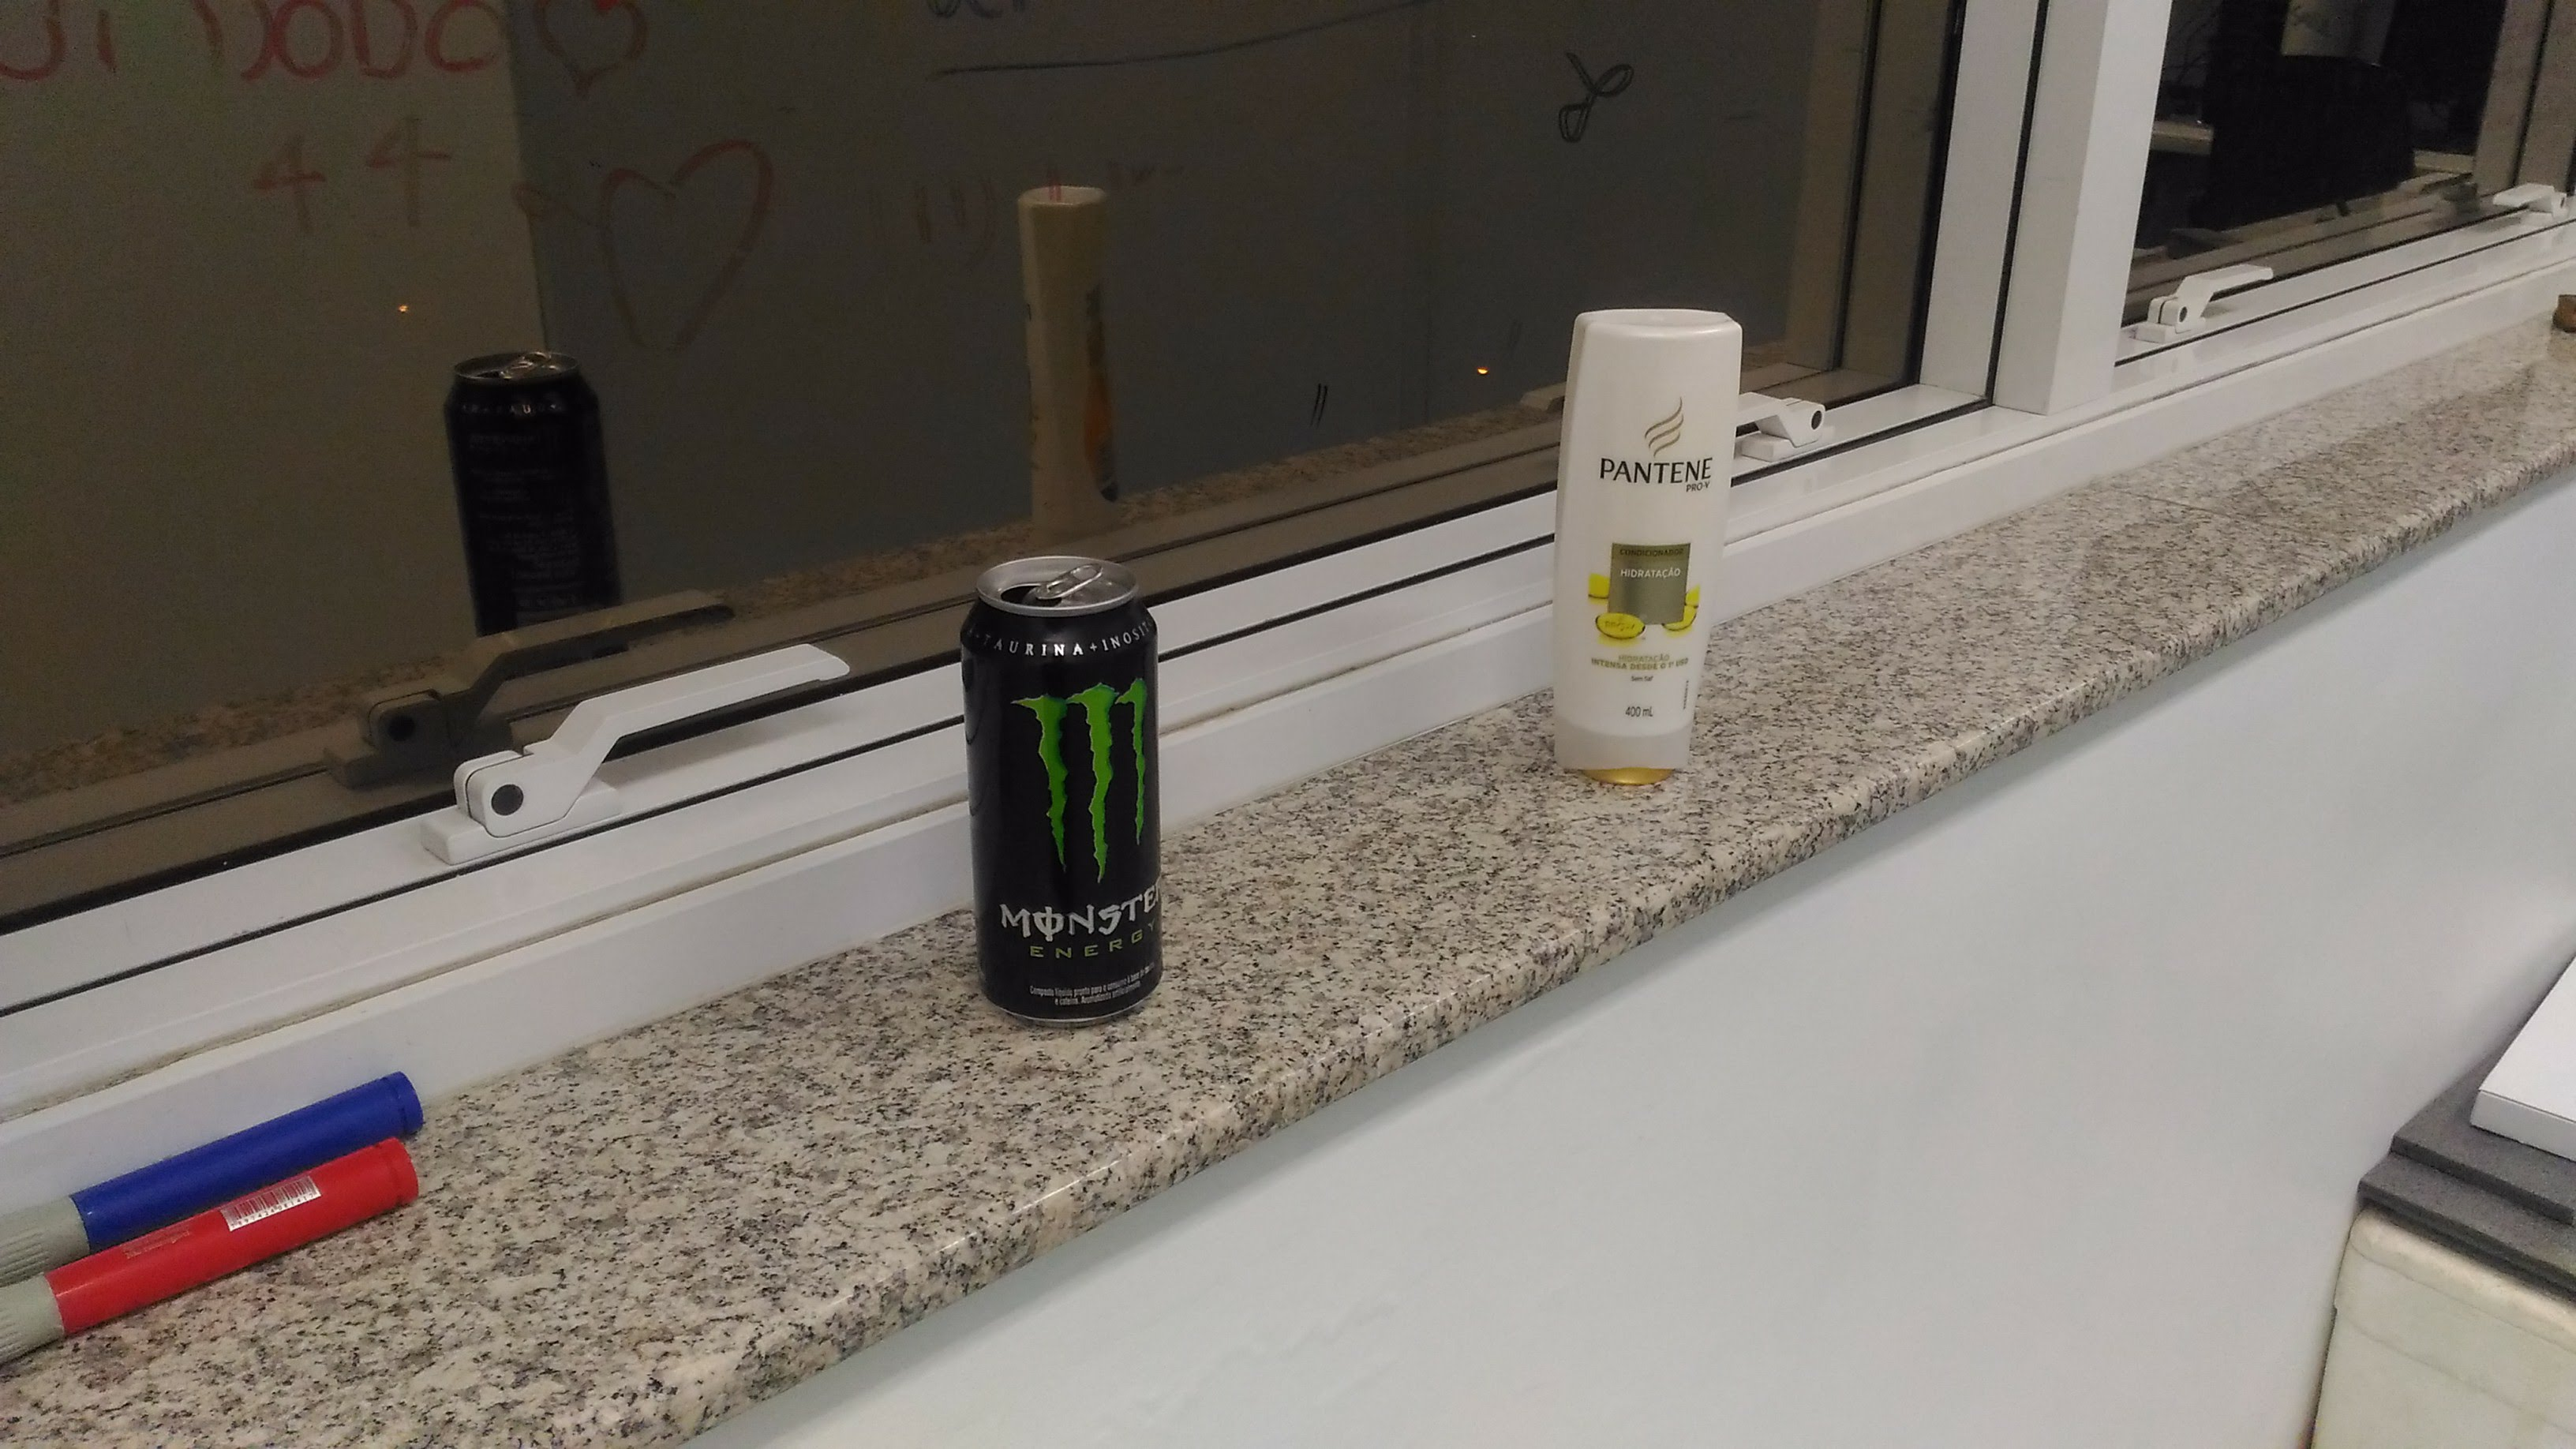monster: (955, 554, 1178, 1035)
shampoo: (1553, 297, 1744, 816)
